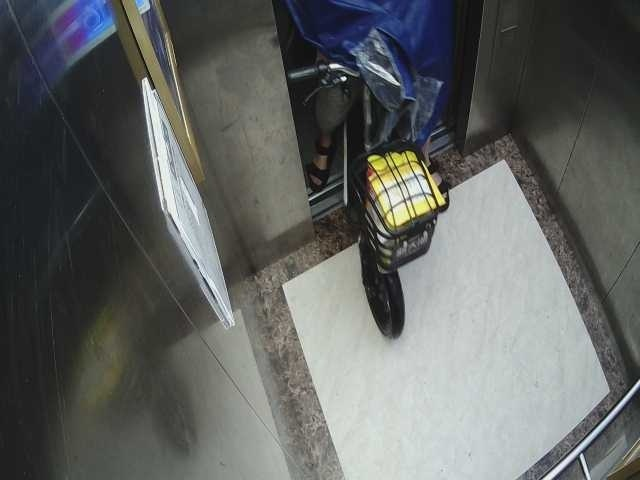emotor: (286, 40, 468, 342)
